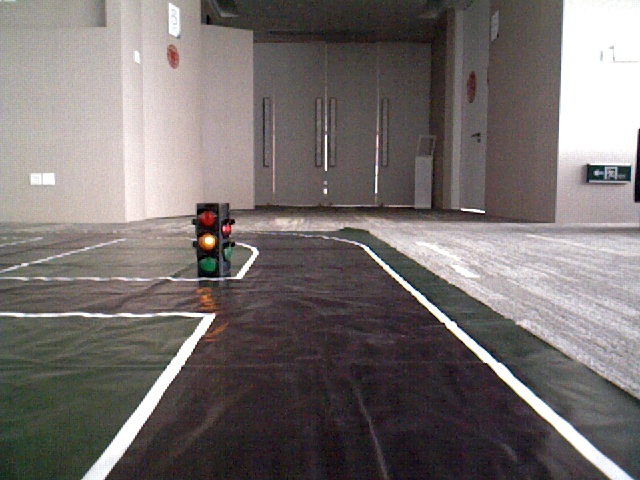yellow: (197, 206, 221, 273)
